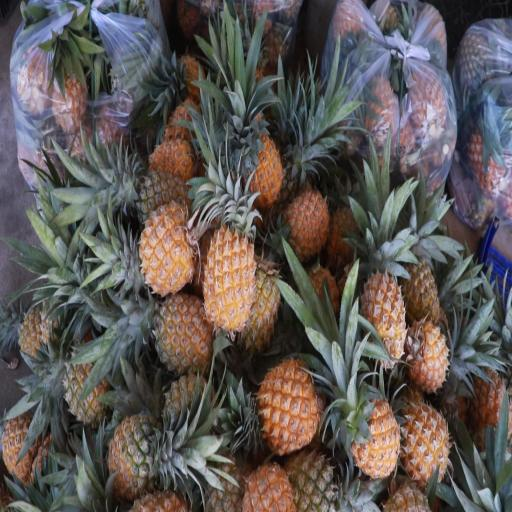------------------------------: (105, 405, 167, 495), (134, 169, 193, 240), (63, 342, 110, 430), (285, 443, 344, 512)
Pineapple - v8 v1: (119, 196, 199, 298), (201, 201, 258, 336), (249, 354, 322, 458), (356, 240, 408, 371), (140, 295, 214, 382), (395, 388, 452, 490), (347, 388, 402, 480), (240, 242, 284, 352), (404, 316, 458, 392), (239, 122, 284, 210), (278, 184, 330, 260), (144, 136, 197, 191)
